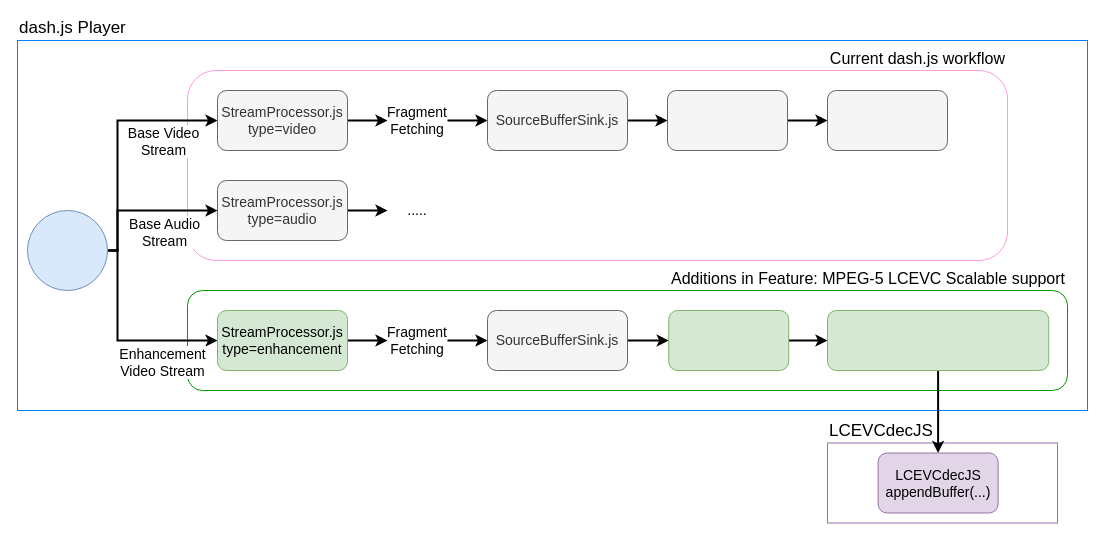
Some shapes in this 1105 by 540 pixel diagram are drawn without their labels. The shapes that lost their labels are listed below. From the top down, each one's centre as x and y in pixels, then its label:
the point at 727,120: MSE
the point at 887,120: HTML Video Tag
the point at 67,250: Stream.js
the point at 728,340: External MSE Implementation
the point at 937,340: dash.js event externalSourceBufferUpdateStart
